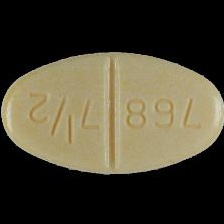53217-018: (0, 0, 224, 224)
